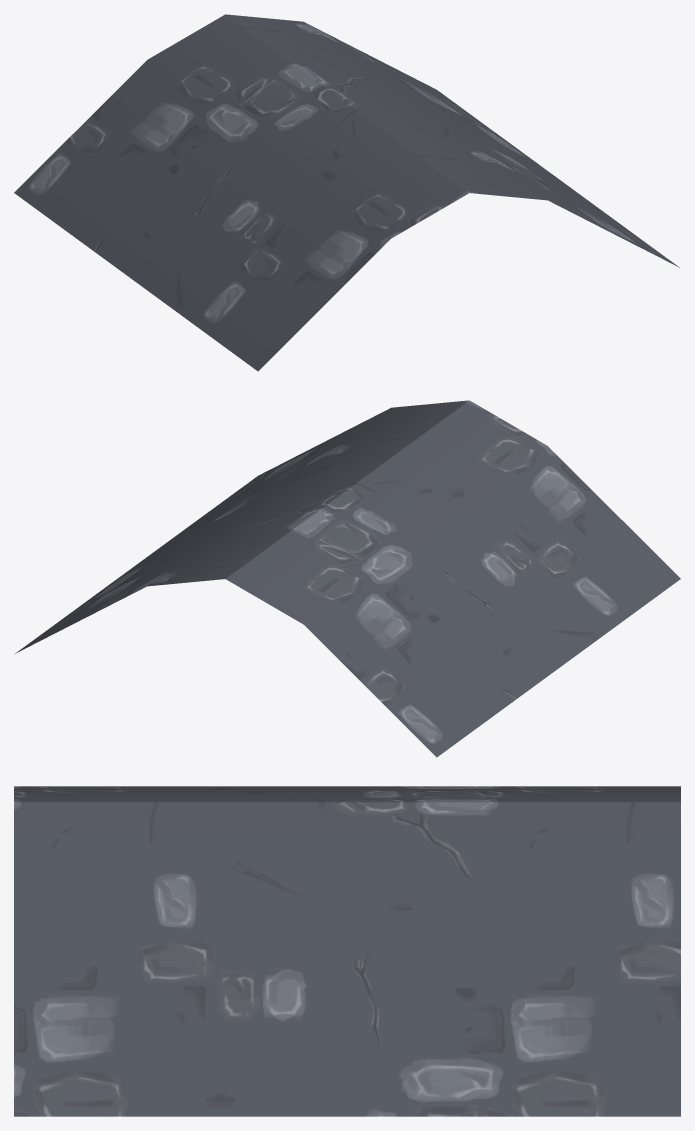
The model's file is Techo_3.fbx.
The picture shows the model from 3 angles, top to bottom: view 1: azimuth 30°, elevation 25°; view 2: azimuth 150°, elevation 25°; view 3: azimuth 270°, elevation 25°; orthographic projection. The views are drawn at different scales.
Parts seen in each view (by area): view 1: Techo_2; view 2: Techo_2; view 3: Techo_2.
Boxes of the visible parts, bbox=[...] form: Techo_2: bbox=[14, 14, 679, 371]; Techo_2: bbox=[15, 400, 680, 757]; Techo_2: bbox=[14, 786, 680, 1116].
Size of the model in its own units: 14 by 4.02 by 14.
